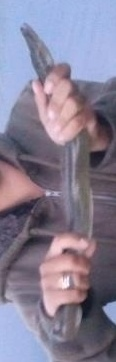Anguilla anguilla: (20, 20, 96, 342)
